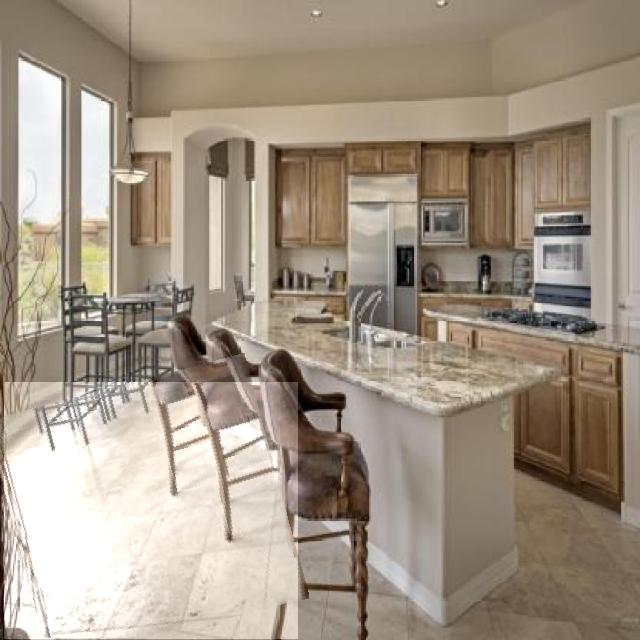floor: (5, 383, 298, 639), (368, 467, 640, 640)
